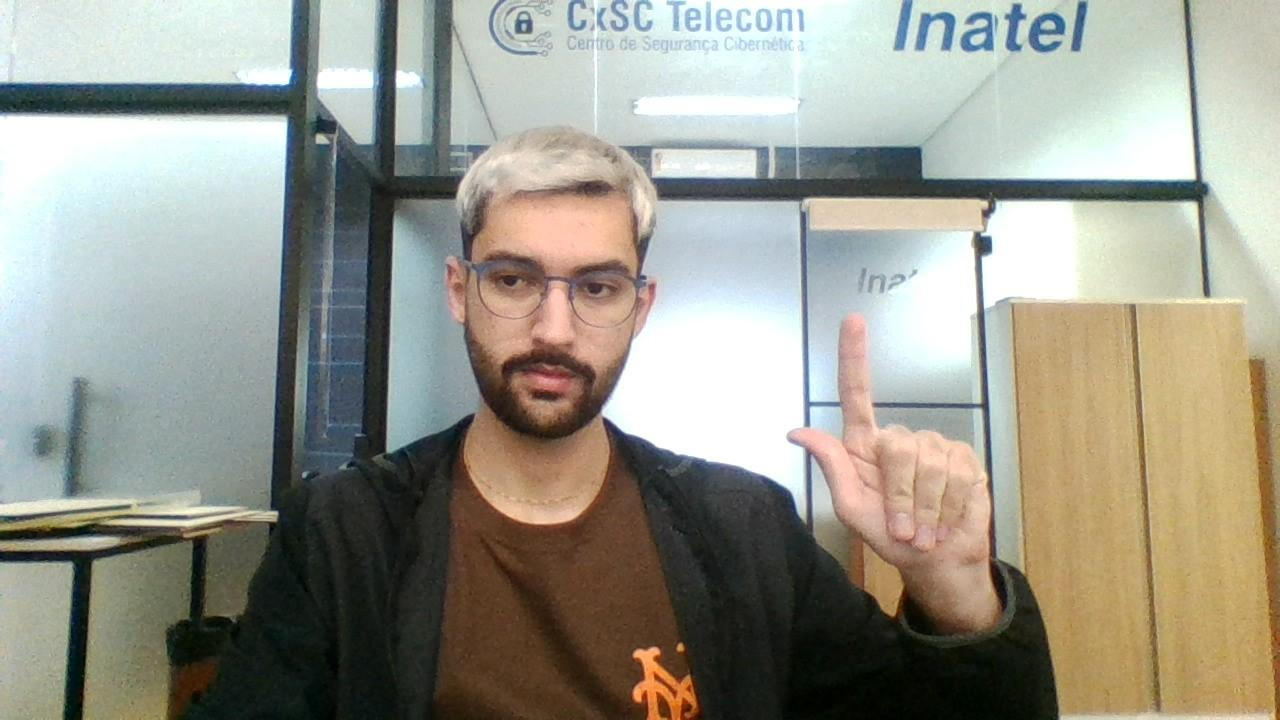G: (782, 308, 1004, 572)
